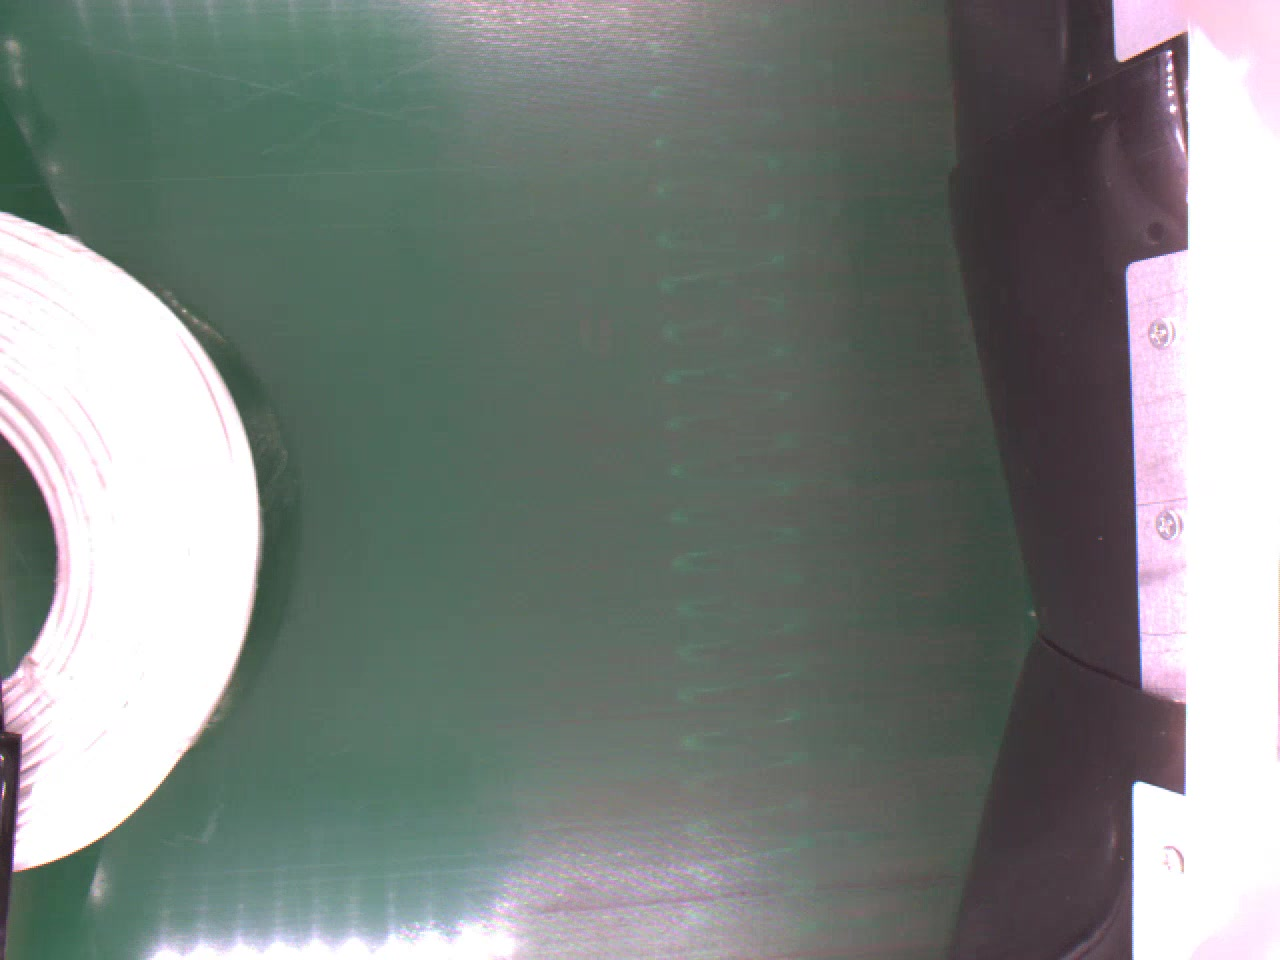white: (0, 210, 266, 873)
